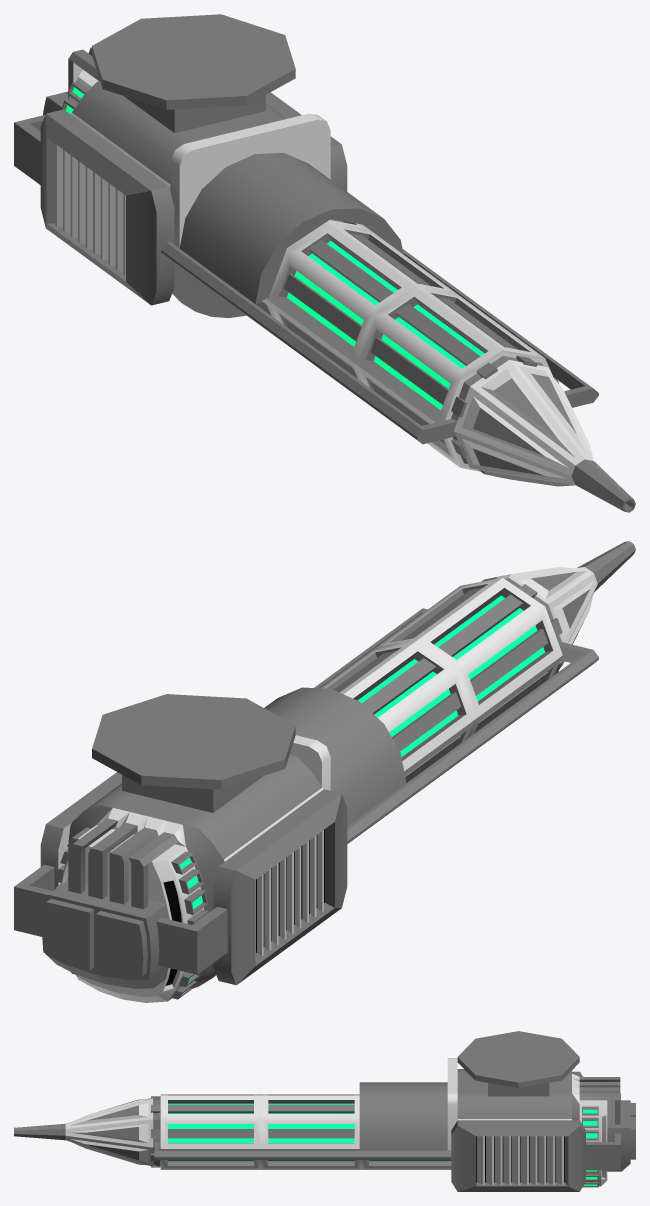
Rendered from LaserCannon T2_2.fbx.
3 renders of one model, top to bottom at view 1: azimuth 30°, elevation 25°; view 2: azimuth 150°, elevation 25°; view 3: azimuth 270°, elevation 25°, orthographic. The views are drawn at different scales.
Parts seen in each view (by area): view 1: Barrel, Heatsinks, Cylinder, Mount, Tip, MainBody; view 2: MainBody, Heatsinks, Barrel, Mount, Cylinder, Tip; view 3: Barrel, Heatsinks, MainBody, Cylinder, Mount, Tip.
Boxes of the visible parts, x1,y1,x2,y2 form: Barrel: (256, 219, 558, 475); Heatsinks: (14, 92, 598, 444); Cylinder: (171, 113, 403, 304); Mount: (92, 14, 295, 133); Tip: (447, 352, 635, 512); MainBody: (43, 47, 286, 317); MainBody: (42, 754, 323, 1002); Heatsinks: (14, 608, 598, 985); Barrel: (320, 577, 562, 782); Mount: (92, 694, 295, 812); Cylinder: (264, 687, 406, 826); Tip: (494, 541, 635, 667); Barrel: (151, 1094, 451, 1169); Heatsinks: (154, 1071, 620, 1191); MainBody: (457, 1069, 635, 1187); Cylinder: (359, 1058, 457, 1150); Mount: (457, 1031, 579, 1096); Tip: (14, 1097, 160, 1167).
Size of the model in its own units: 229 by 230 by 1018.
